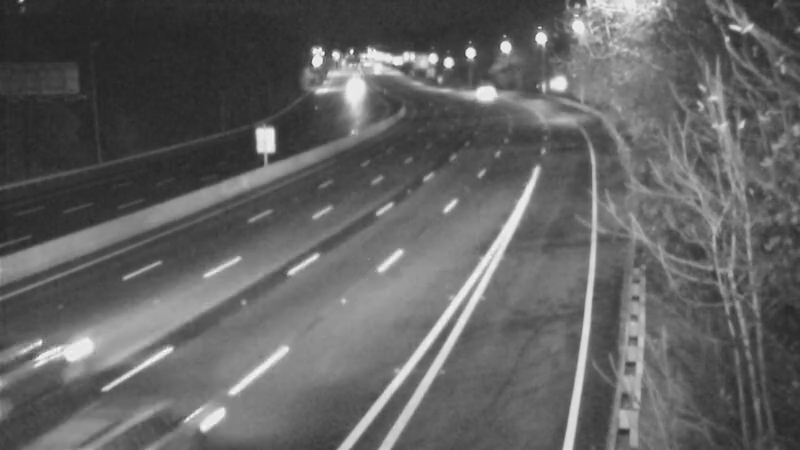vehicle: (461, 65, 511, 115), (327, 67, 377, 117)
